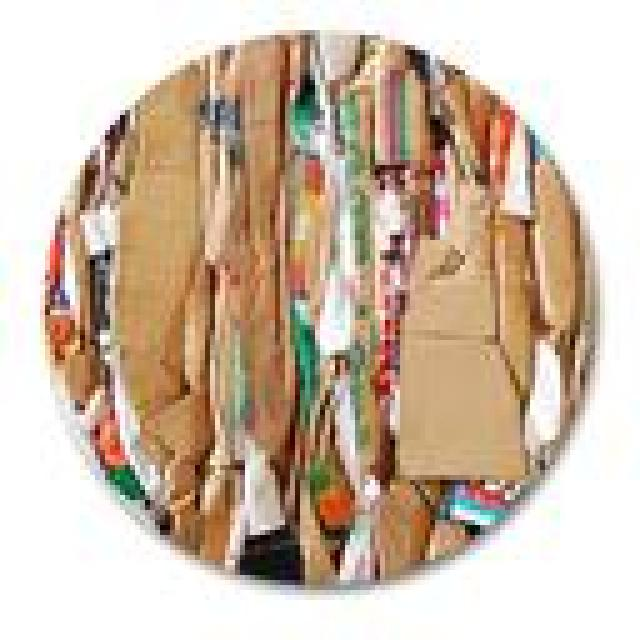cardboard: (285, 35, 390, 580), (195, 30, 285, 460), (110, 50, 210, 400), (385, 230, 525, 475), (60, 110, 115, 350), (375, 45, 430, 225), (195, 450, 280, 565), (135, 385, 195, 545), (430, 60, 485, 220), (525, 150, 570, 345), (70, 375, 140, 495), (485, 205, 530, 380), (365, 475, 440, 570), (420, 475, 510, 550), (475, 100, 530, 215), (40, 210, 75, 360), (520, 345, 565, 455), (230, 515, 300, 580), (565, 230, 585, 410), (55, 335, 100, 400)
